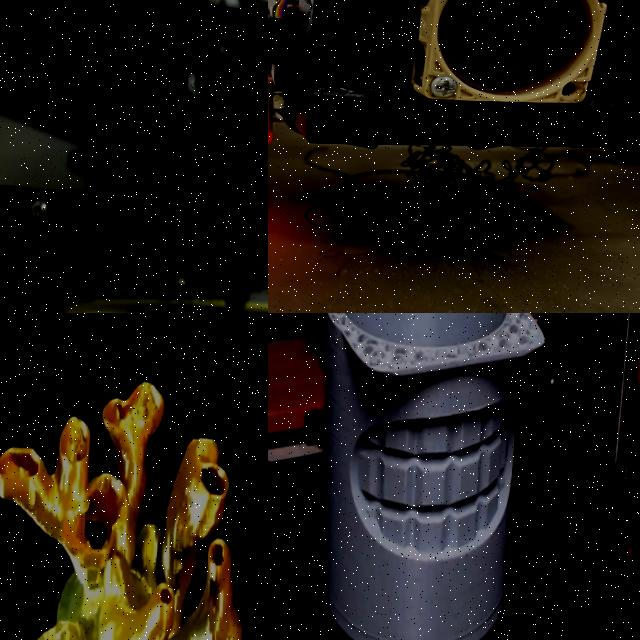spaghetti: (304, 146, 506, 258), (500, 147, 582, 182)
